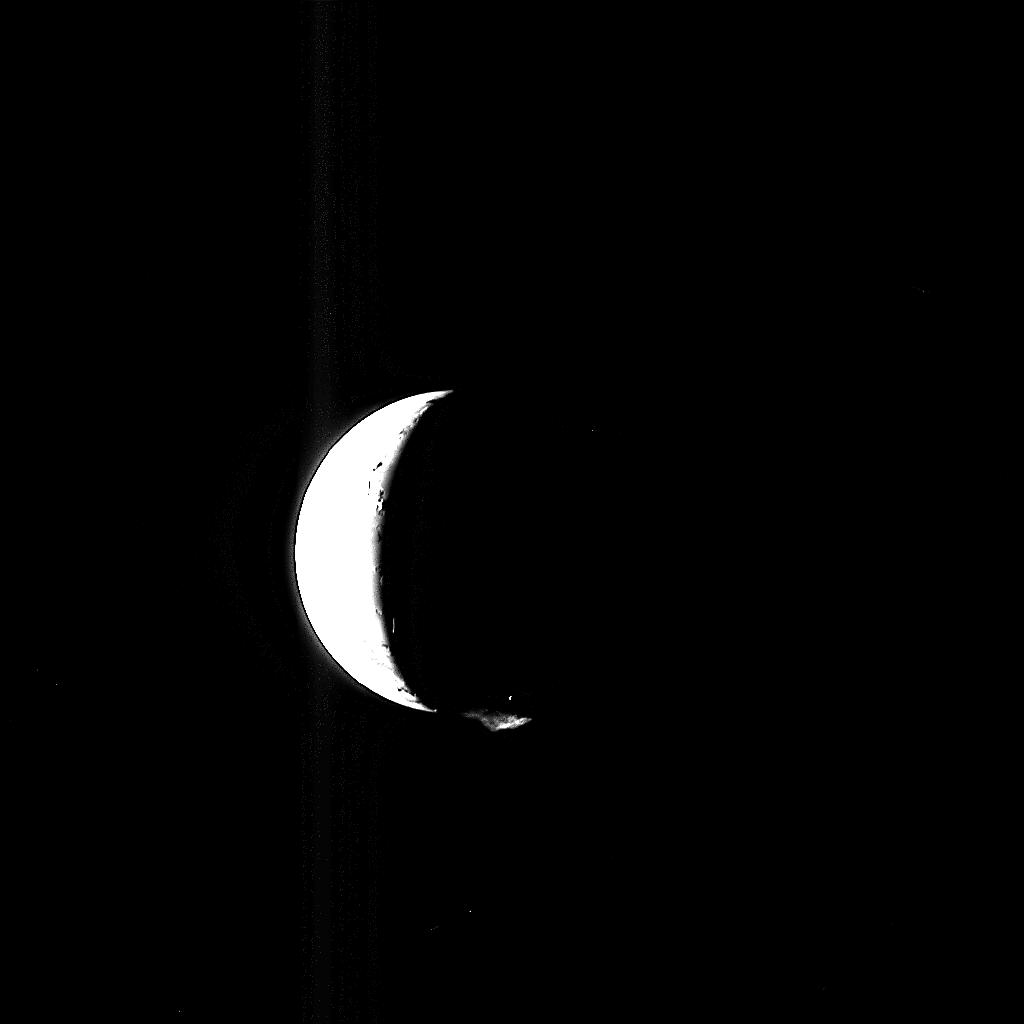plumes: (466, 710, 529, 732)
